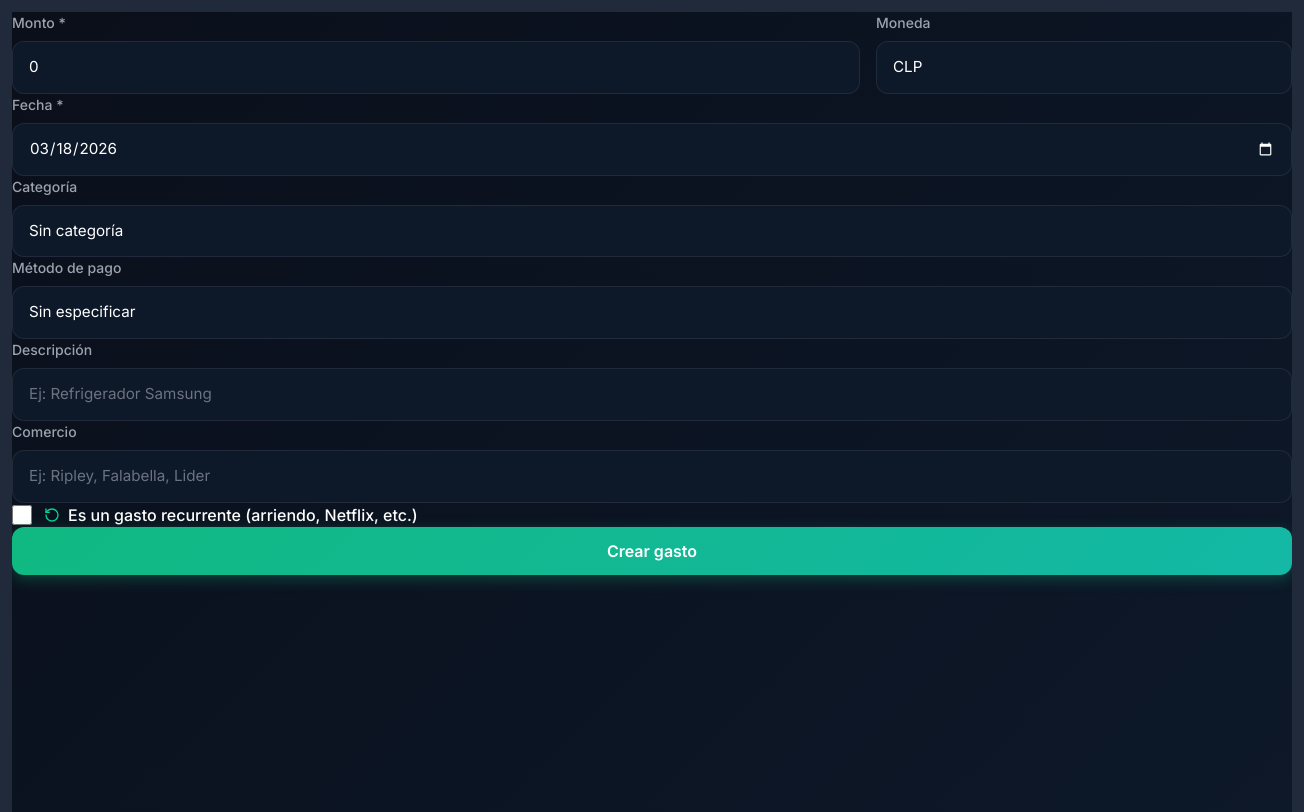
Test case: ExpenseForm › shows recurring fields when checked
Expected: the text "Frecuencia *" is not shown
Click the checkbox labelled "Es un gasto recurrente (arriendo, Netflix, etc.)" at (22, 515), box [12,505,32,525]
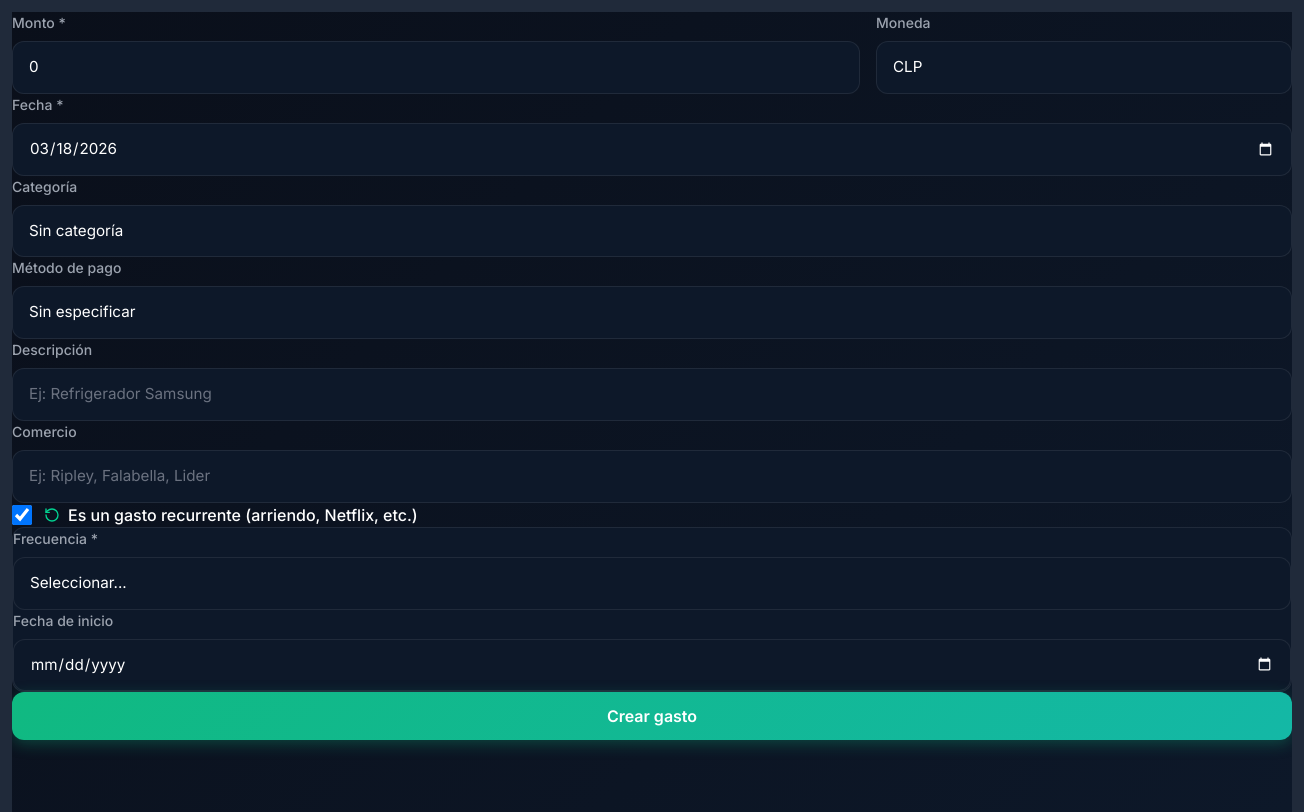
Now the text "Frecuencia *" is shown, box [13,530,98,547]
Now the text "Fecha de inicio" is shown, box [13,612,113,628]
